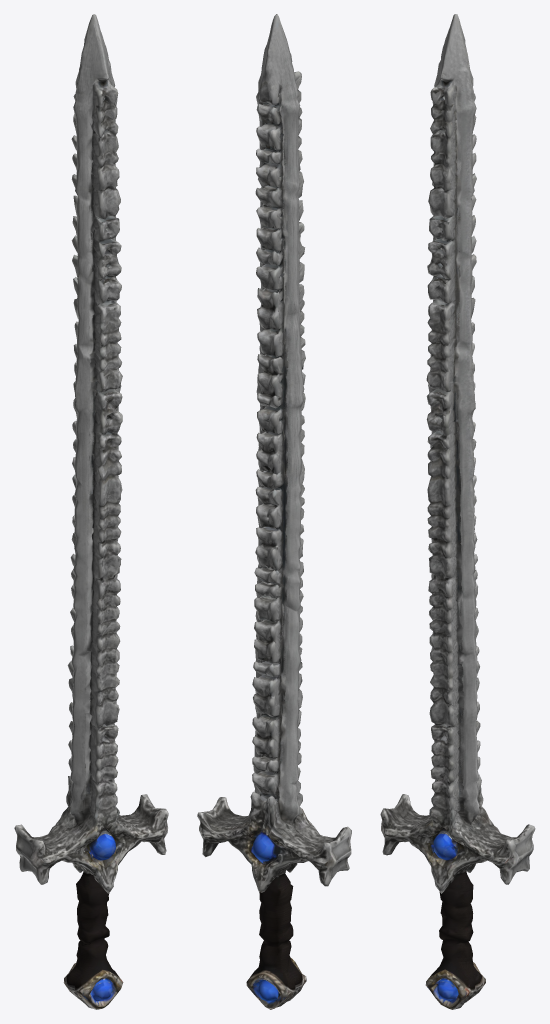
File: greatsword.fbx
The picture shows the model from 3 angles, left to right: view 1: azimuth 30°, elevation 25°; view 2: azimuth 150°, elevation 25°; view 3: azimuth 330°, elevation 25°; orthographic projection.
Parts seen in each view (by area): view 1: greatsword_node; view 2: greatsword_node; view 3: greatsword_node.
Boxes of the visible parts, x1=… form: greatsword_node: x1=14, y1=14, x2=168, y2=1009; greatsword_node: x1=197, y1=14, x2=351, y2=1009; greatsword_node: x1=380, y1=14, x2=535, y2=1009.
Size of the model in its own units: 16.91 by 116 by 7.95.
Materials: 1 (1 with a texture image).
